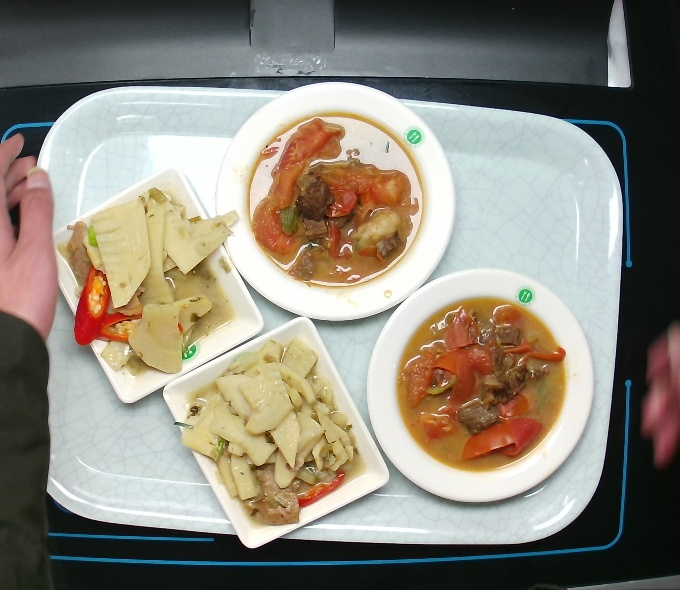wcq-DongSun: (54, 187, 254, 379), (170, 334, 370, 526)
wcq-FanQiwNiuRou: (395, 296, 570, 474), (246, 112, 421, 290)
